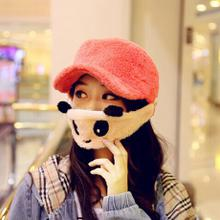WRONG: (67, 78, 137, 148)
